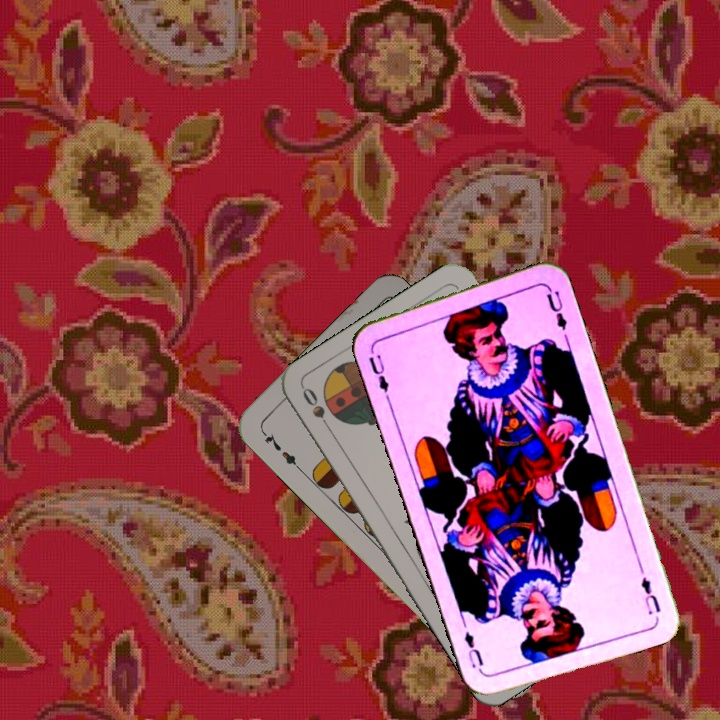E7: (257, 427, 304, 473)
EU: (364, 344, 392, 395), (637, 573, 663, 618)
SO: (298, 383, 336, 437)
